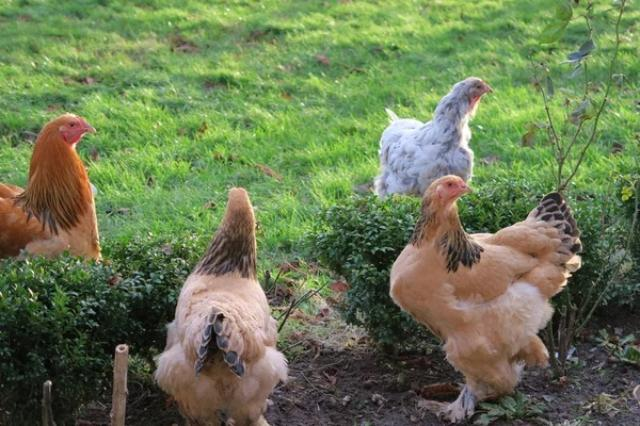Chicken: (392, 175, 583, 423), (156, 188, 287, 426), (0, 113, 102, 262), (377, 78, 493, 197)
